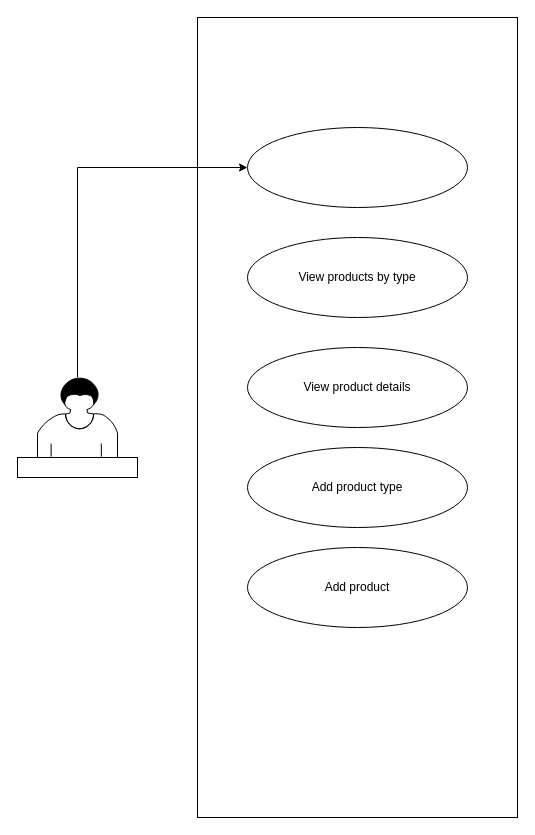
Some shapes in this 535 by 835 pixel diagram are drawn without their labels. The shapes that lost their labels are listed below. From the top down, each one's box as (x1, y1, x2, y2) in pixels, then its label:
(246, 126, 468, 208): View inventory index
(16, 456, 138, 478): Store Owner
